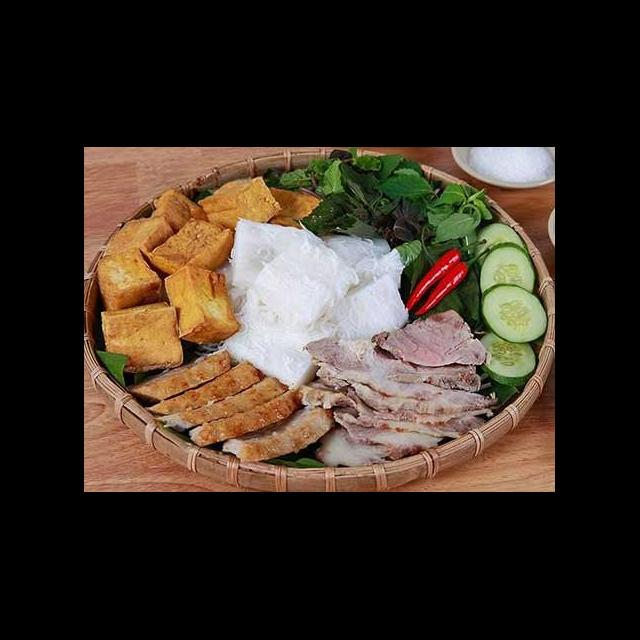bun: (215, 237, 466, 390)
bun dau: (84, 165, 556, 492)
cha com: (115, 177, 296, 335)
dau hu: (235, 154, 352, 224), (282, 202, 413, 264), (427, 222, 520, 300), (372, 188, 472, 258), (326, 149, 431, 210), (389, 156, 472, 218), (428, 188, 502, 236), (442, 270, 508, 322)
thit heo: (112, 303, 344, 452)
